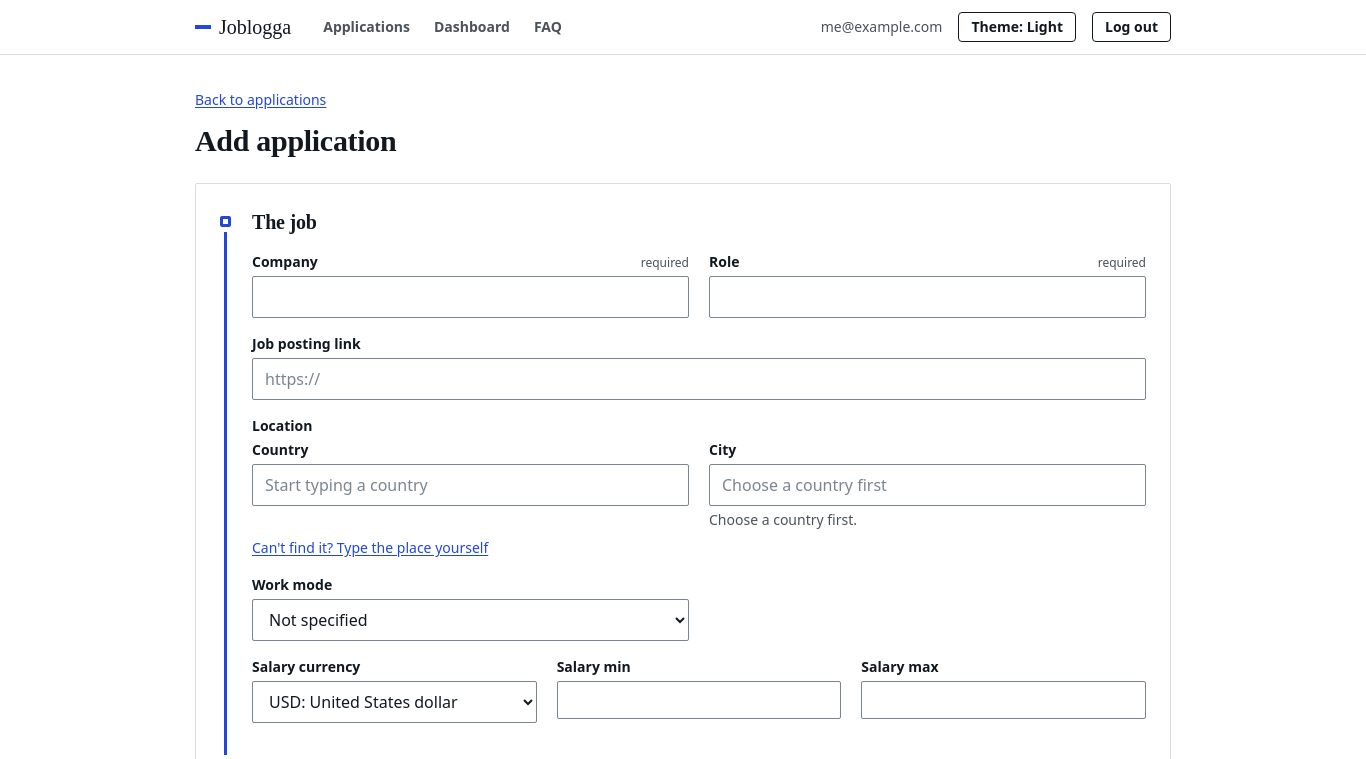
Test: add application: inline validation › clears a required-field error as soon as you type
Click the field labelled "Company" at {"x": 470, "y": 297}, box x1=252 y1=276 x2=689 y2=318
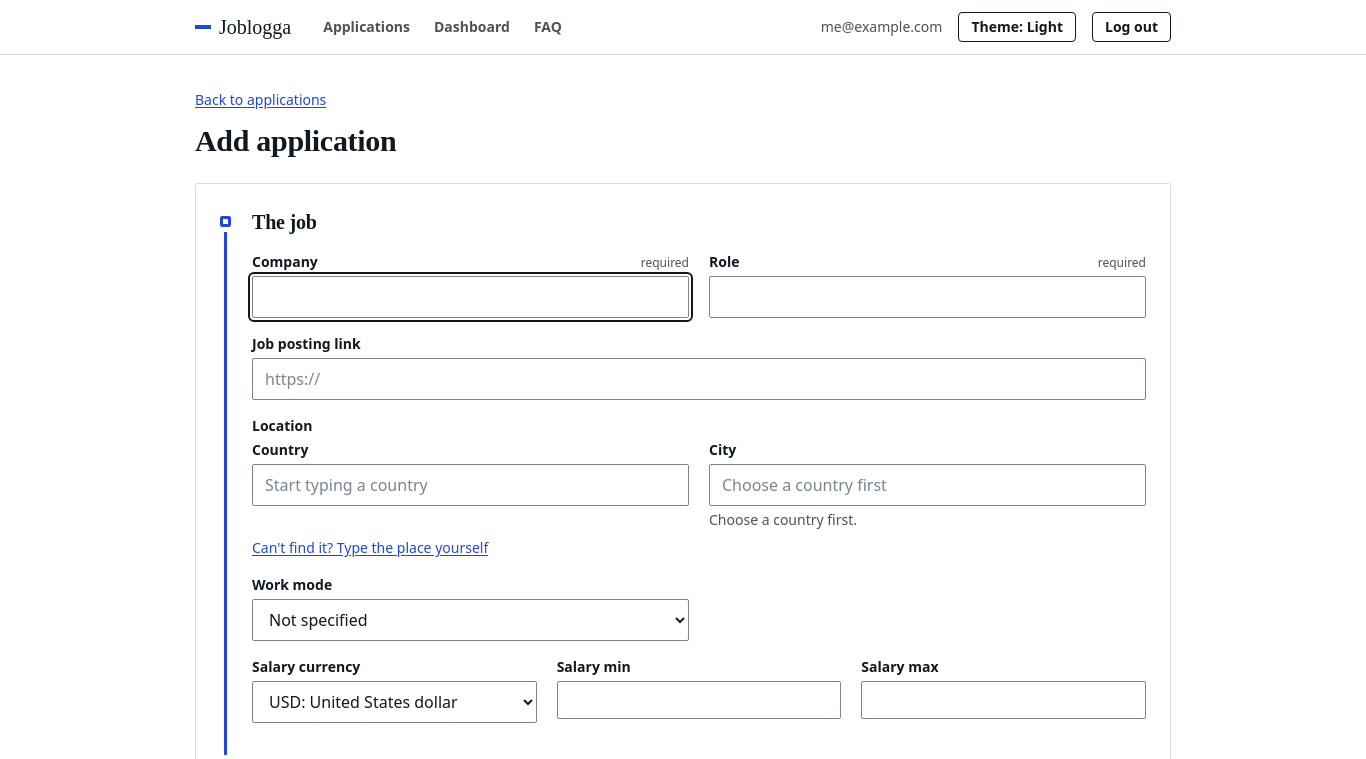
Press Tab
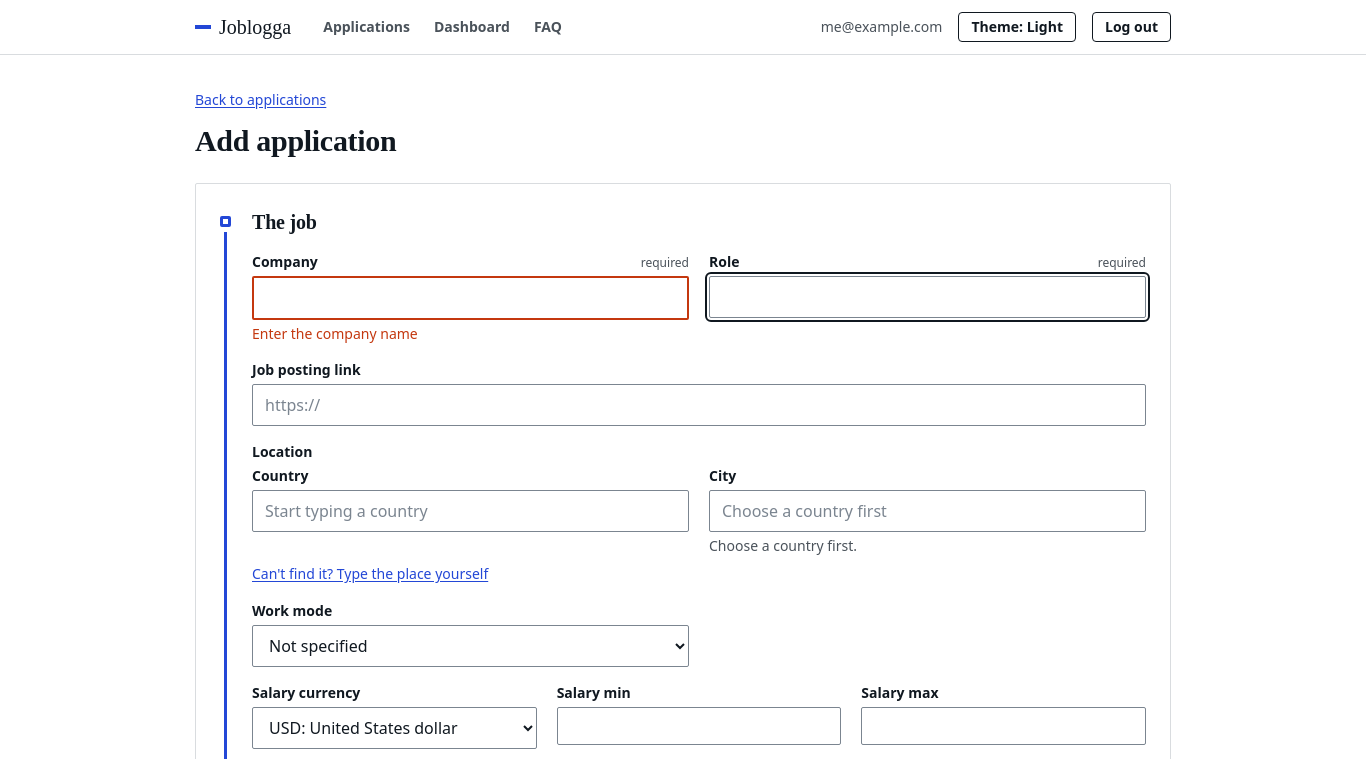
Check: the text "Enter the company name" is shown, box x1=252 y1=324 x2=418 y2=343
Type "A" into the field labelled "Company" at {"x": 470, "y": 298}, box x1=252 y1=276 x2=689 y2=320
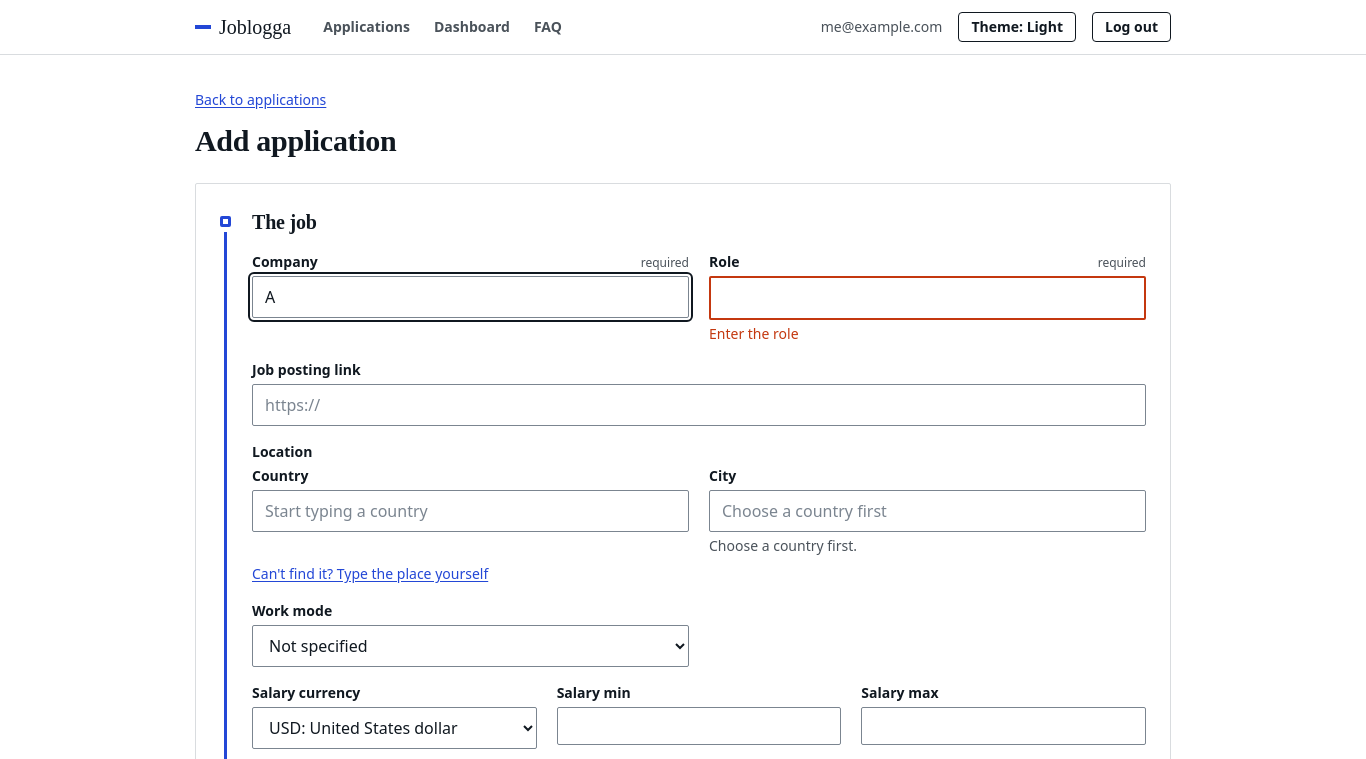
Check: the text "Enter the company name" is gone
